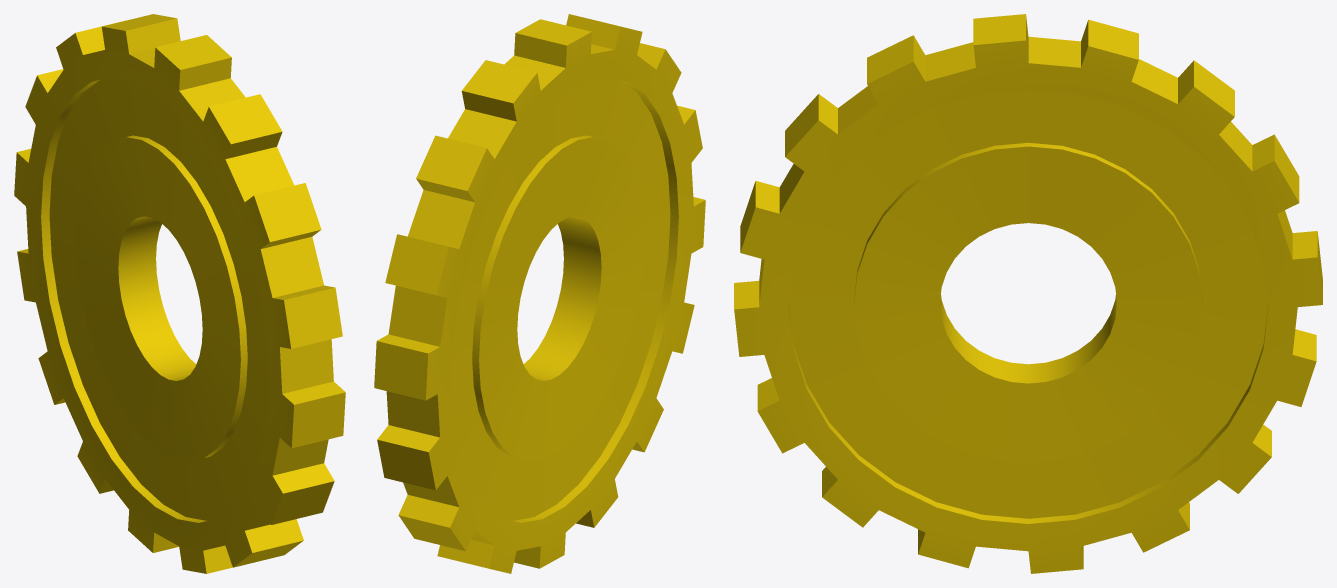
File: petit rouage gold.fbx
The picture shows the model from 3 angles, left to right: view 1: azimuth 30°, elevation 25°; view 2: azimuth 150°, elevation 25°; view 3: azimuth 270°, elevation 25°; orthographic projection. The views are drawn at different scales.
Parts seen in each view (by area): view 1: Cylinder.007; view 2: Cylinder.007; view 3: Cylinder.007.
Part boxes in pixels (x1=…): Cylinder.007: x1=14, y1=14, x2=345, y2=573; Cylinder.007: x1=374, y1=14, x2=705, y2=573; Cylinder.007: x1=734, y1=14, x2=1322, y2=573.
Size of the model in its own units: 29.97 by 281 by 281.
